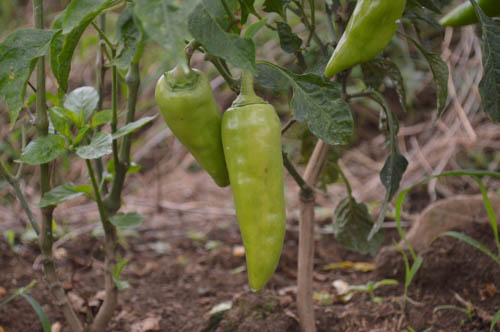ChiliPepper: (221, 103, 284, 297), (158, 71, 227, 187), (324, 1, 408, 85)
